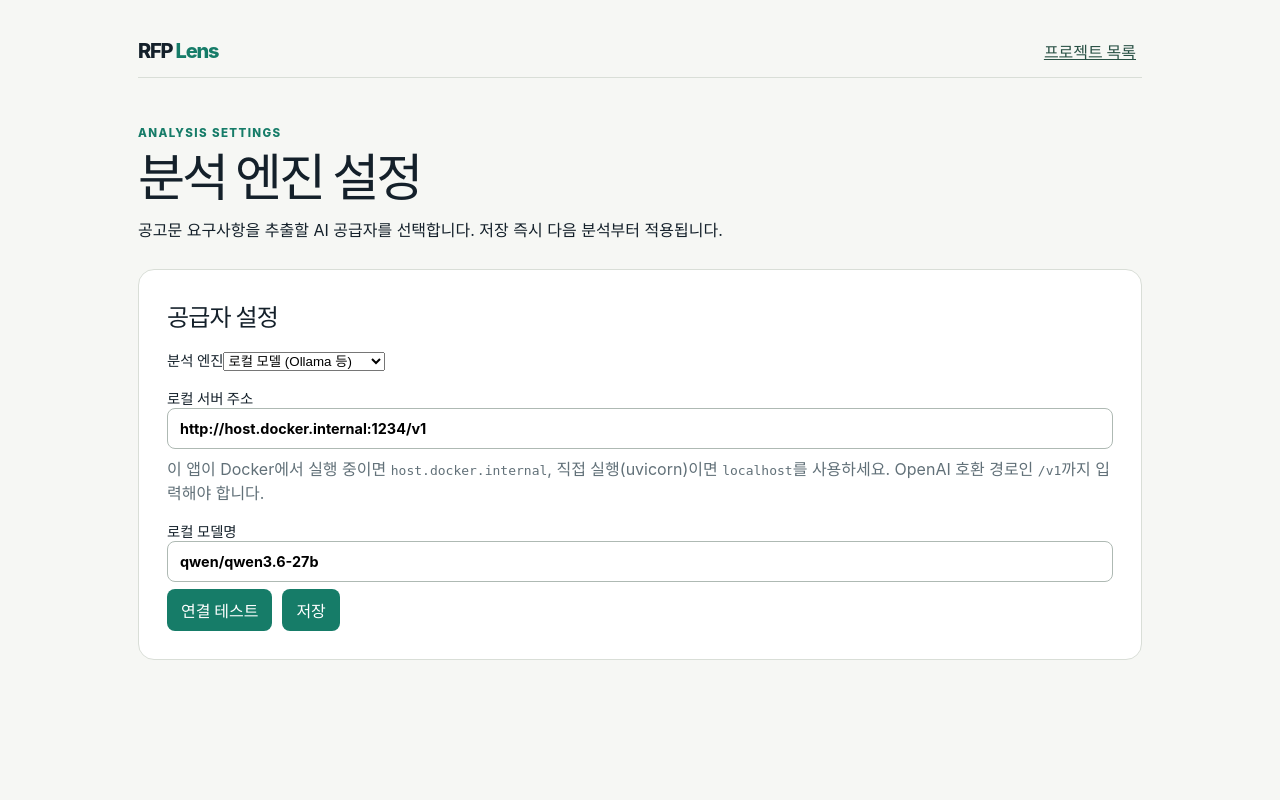
Scenario: analysis settings page › shows a successful connection test for a reachable local model
expect the dropdown labelled "분석 엔진" shows "로컬 모델 (Ollama 등)": met, box [223,352,385,371]
Click the button "연결 테스트" at {"x": 220, "y": 610}, box [167,589,272,631]
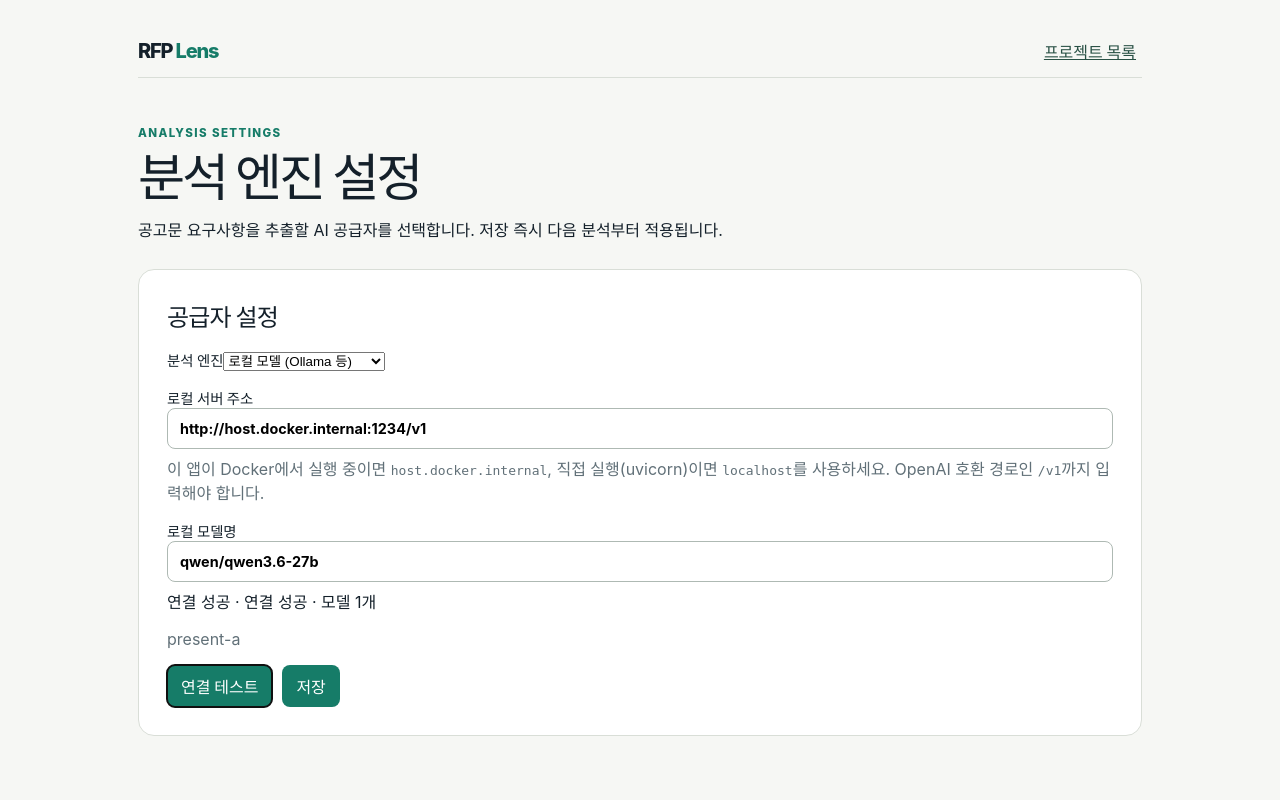
expect the message shows "연결 성공": met, box [167,592,244,612]
